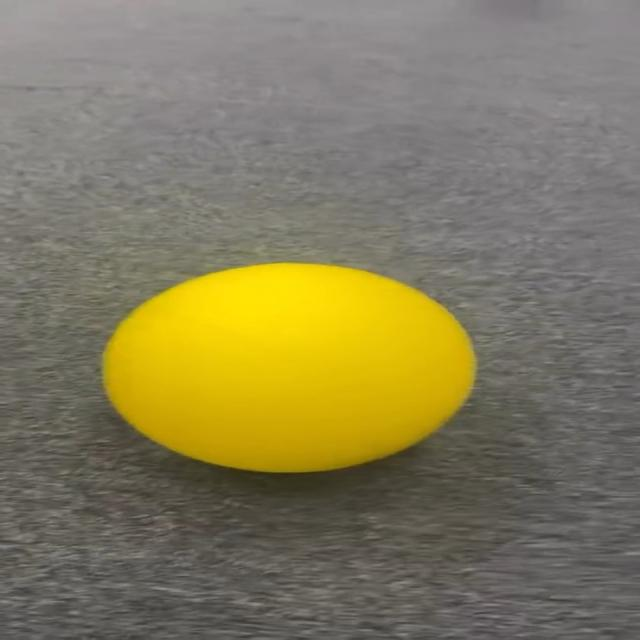Fuels: (101, 260, 473, 468)
